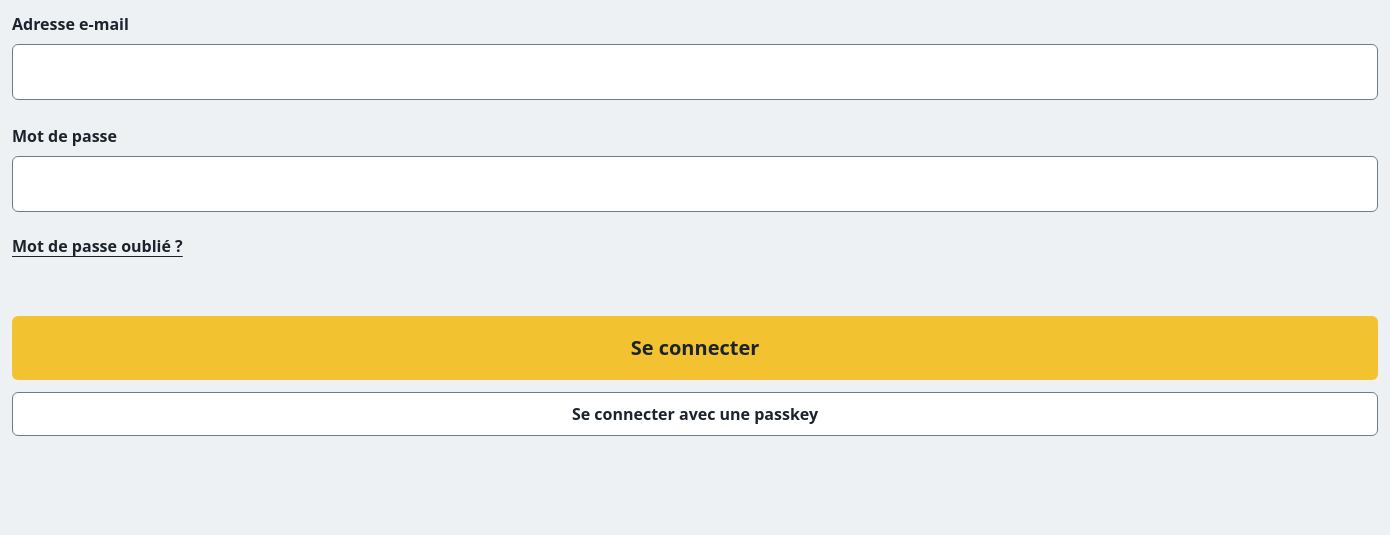
LoginForm › explique une réponse 429
Type "membre@example.com" into the field labelled "Adresse e-mail" at point(695, 72), box x1=12 y1=44 x2=1378 y2=100
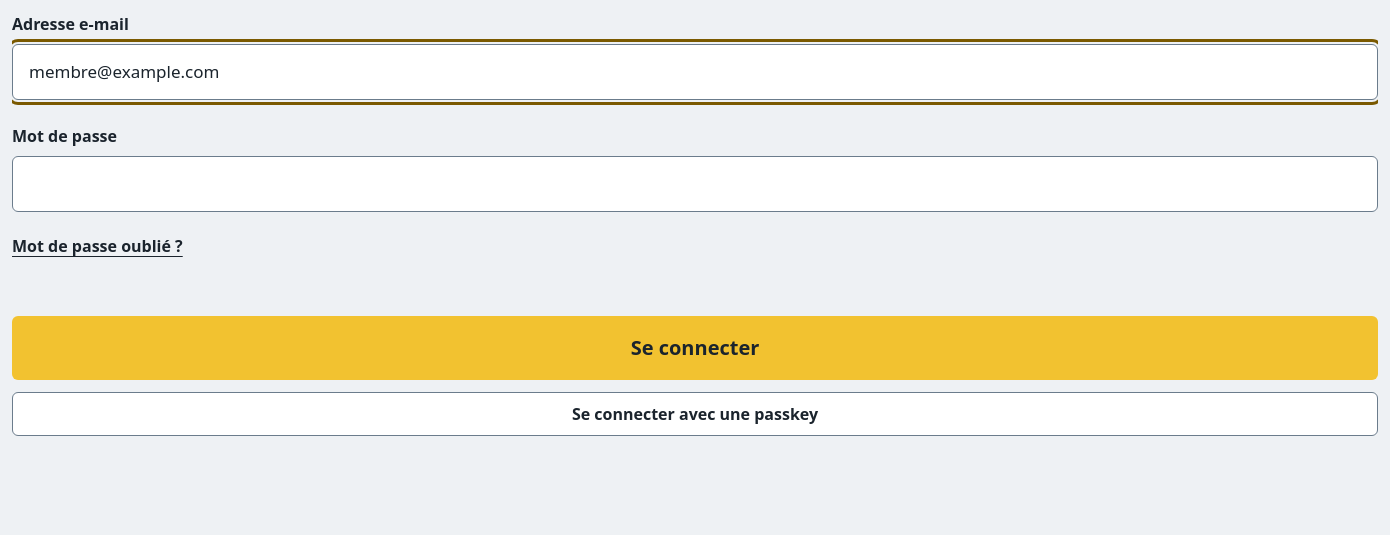
Type "x" into the password field labelled "Mot de passe" at point(695, 184), box x1=12 y1=156 x2=1378 y2=212
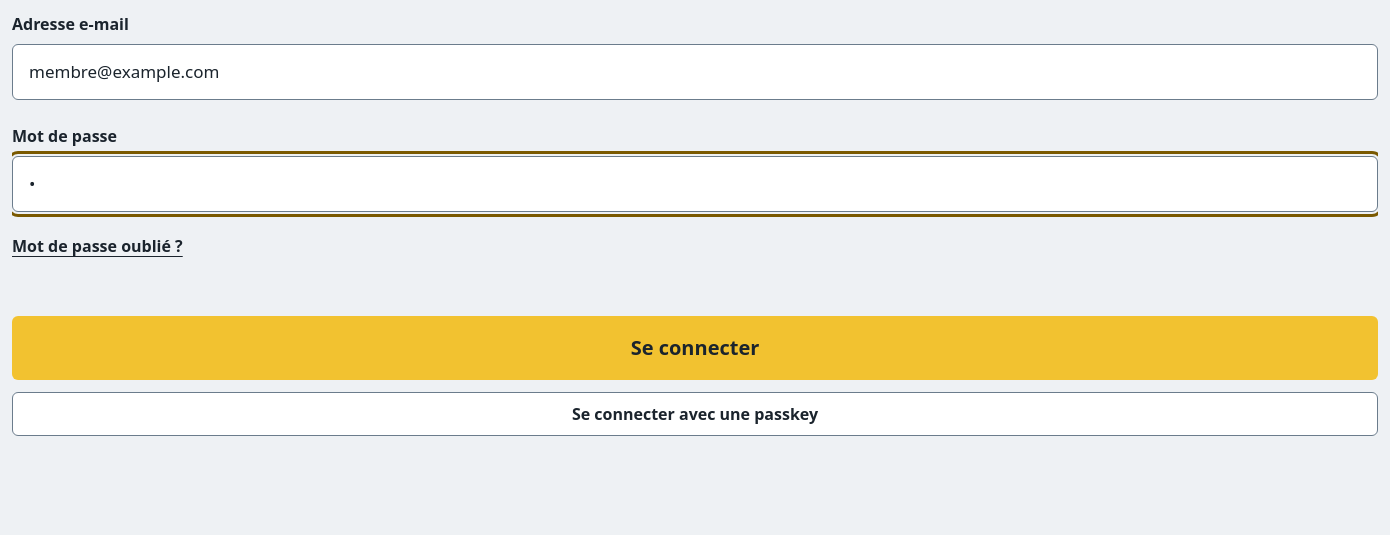
Press Enter
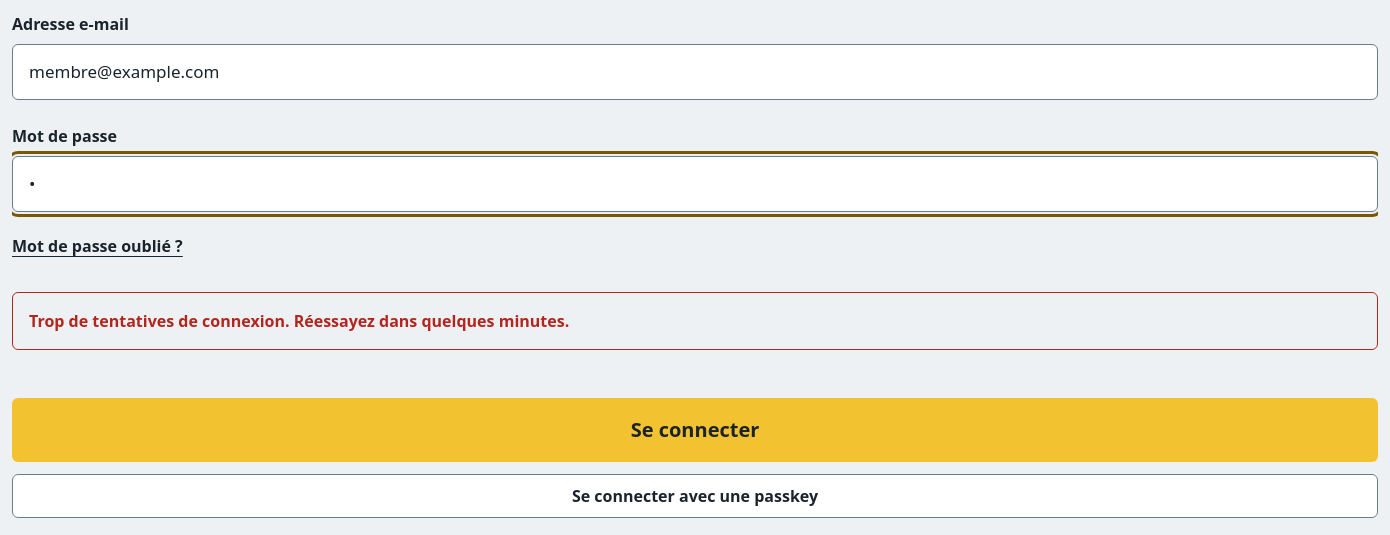
Check: the message shows "Trop de tentatives de connexion", box x1=29 y1=310 x2=569 y2=332
